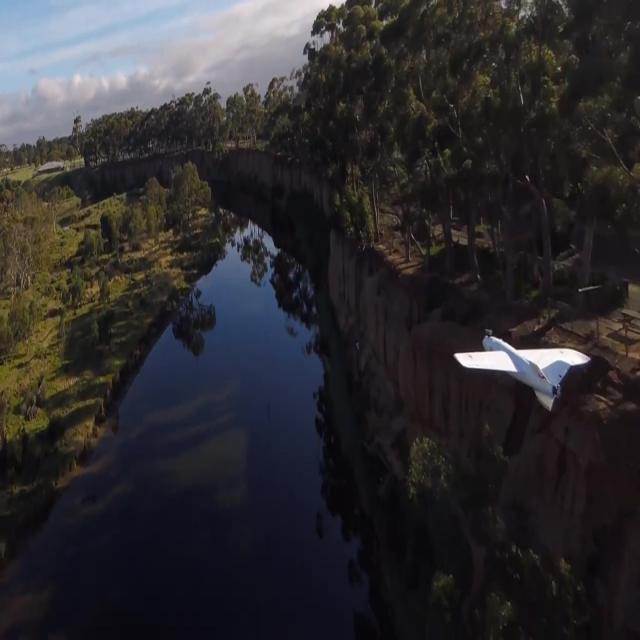iha: (450, 358, 582, 382)
